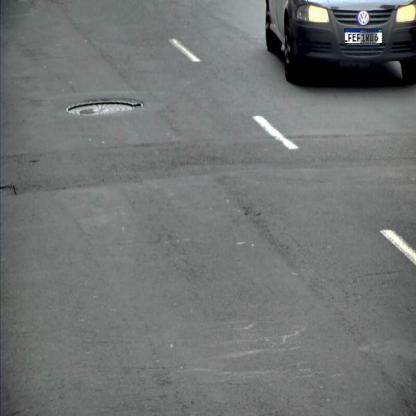PlacaM: (344, 28, 383, 44)
